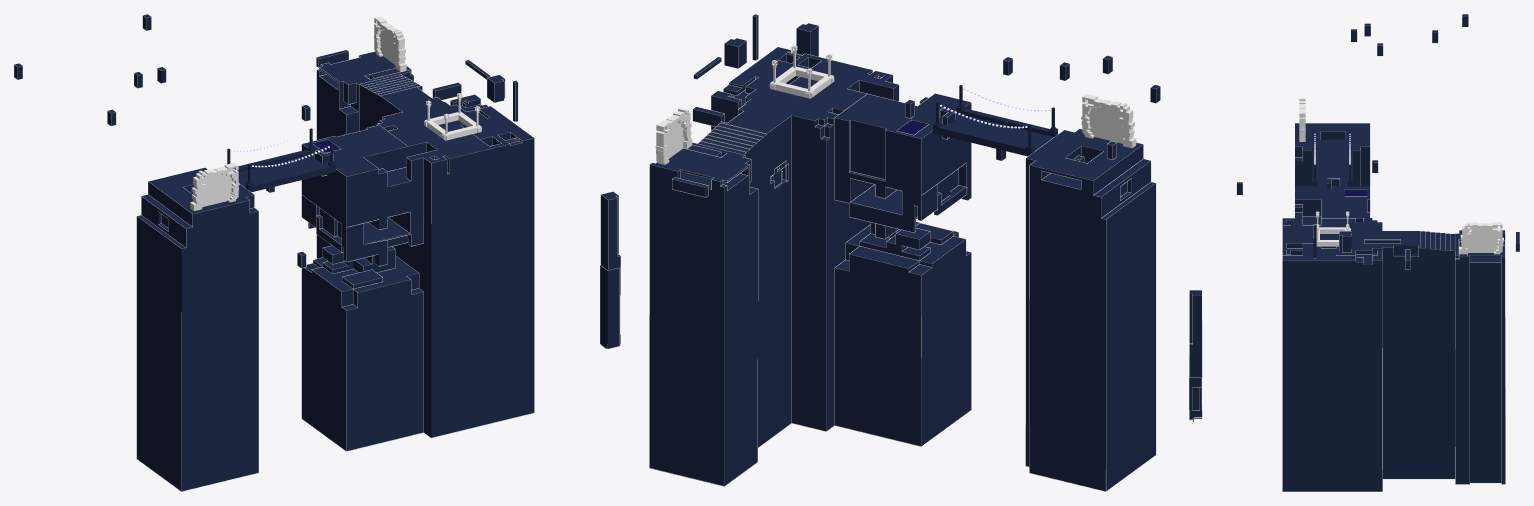
The model's file is Hub 1.fbx.
3 renders of one model, left to right at view 1: azimuth 30°, elevation 25°; view 2: azimuth 150°, elevation 25°; view 3: azimuth 270°, elevation 25°, orthographic. The views are drawn at different scales.
Parts seen in each view (by area): view 1: Central_Hall_Floor, Dice_Zone_Floor_2, Dice_Zone_Floor_1.001, Dice_Zone_Floor_1, Outlines, Stalagmite, Arrival_Floor, Stalagtite, Central_Hall_Under_Totem, Stairs, Central_Hall_Upper_Totem, Reception (+7 smaller); view 2: Dice_Zone_Floor_2, Arrival_Floor, Dice_Zone_Floor_1.001, Central_Hall_Floor, Dice_Zone_Floor_1, Outlines, Link_to_Hub, Stalagmite, Stalagtite, Stairs, Bridge_Planks, Reception (+7 smaller); view 3: Central_Hall_Floor, Arrival_Floor, Link_to_Hub, Stairs, Dice_Zone_Floor_2, Outlines, Dice_Zone_Floor_1, Central_Hall_Upper_Totem, Bridge_Planks, Ark_Arrival, Veil_Arrival, Reception.
Boxes of the visible parts, x1,y1,x2,y2 form: Central_Hall_Floor: (377, 94, 534, 437); Dice_Zone_Floor_2: (137, 168, 258, 491); Dice_Zone_Floor_1.001: (302, 278, 423, 450); Dice_Zone_Floor_1: (302, 125, 423, 225); Outlines: (136, 51, 534, 491); Stalagmite: (302, 246, 418, 307); Arrival_Floor: (317, 51, 413, 258); Stalagtite: (302, 193, 423, 265); Central_Hall_Under_Totem: (600, 265, 620, 349); Stairs: (359, 74, 420, 130); Central_Hall_Upper_Totem: (600, 191, 620, 348); Reception: (424, 93, 481, 140); Dice_Zone_Floor_2: (1026, 129, 1155, 491); Arrival_Floor: (649, 142, 757, 486); Dice_Zone_Floor_1.001: (835, 251, 971, 446); Central_Hall_Floor: (711, 47, 892, 430); Dice_Zone_Floor_1: (835, 81, 971, 193); Outlines: (649, 47, 1156, 491); Link_to_Hub: (721, 104, 791, 440); Stalagmite: (846, 222, 965, 288); Stalagtite: (835, 158, 971, 238); Stairs: (698, 123, 766, 447); Bridge_Planks: (942, 113, 1053, 150); Reception: (769, 45, 834, 98); Central_Hall_Floor: (1282, 218, 1382, 491); Arrival_Floor: (1455, 230, 1505, 484); Link_to_Hub: (1382, 231, 1420, 478); Stairs: (1420, 231, 1454, 478); Dice_Zone_Floor_2: (1295, 123, 1369, 186); Outlines: (1282, 123, 1505, 491); Dice_Zone_Floor_1: (1295, 186, 1369, 225); Central_Hall_Upper_Totem: (1189, 290, 1202, 421); Bridge_Planks: (1317, 150, 1347, 186); Ark_Arrival: (1459, 222, 1503, 254); Veil_Arrival: (1466, 228, 1500, 252); Reception: (1316, 211, 1350, 246).
Size of the model in its own units: 1711368 by 1494560 by 1321062.
